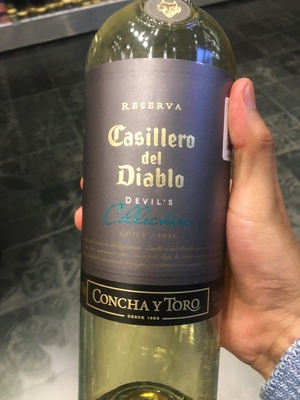casillero del diablo devils collection verde: (76, 16, 245, 400)
